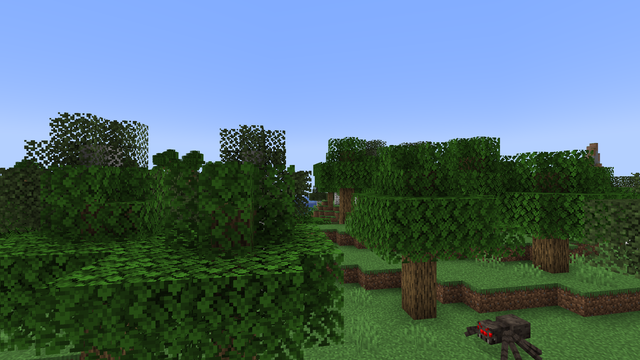araignees: (466, 307, 537, 358)
